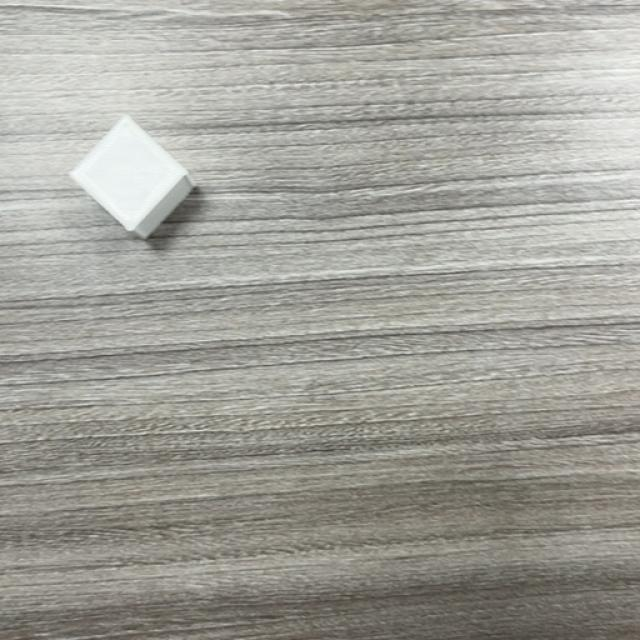Blanco: (69, 118, 195, 240)
